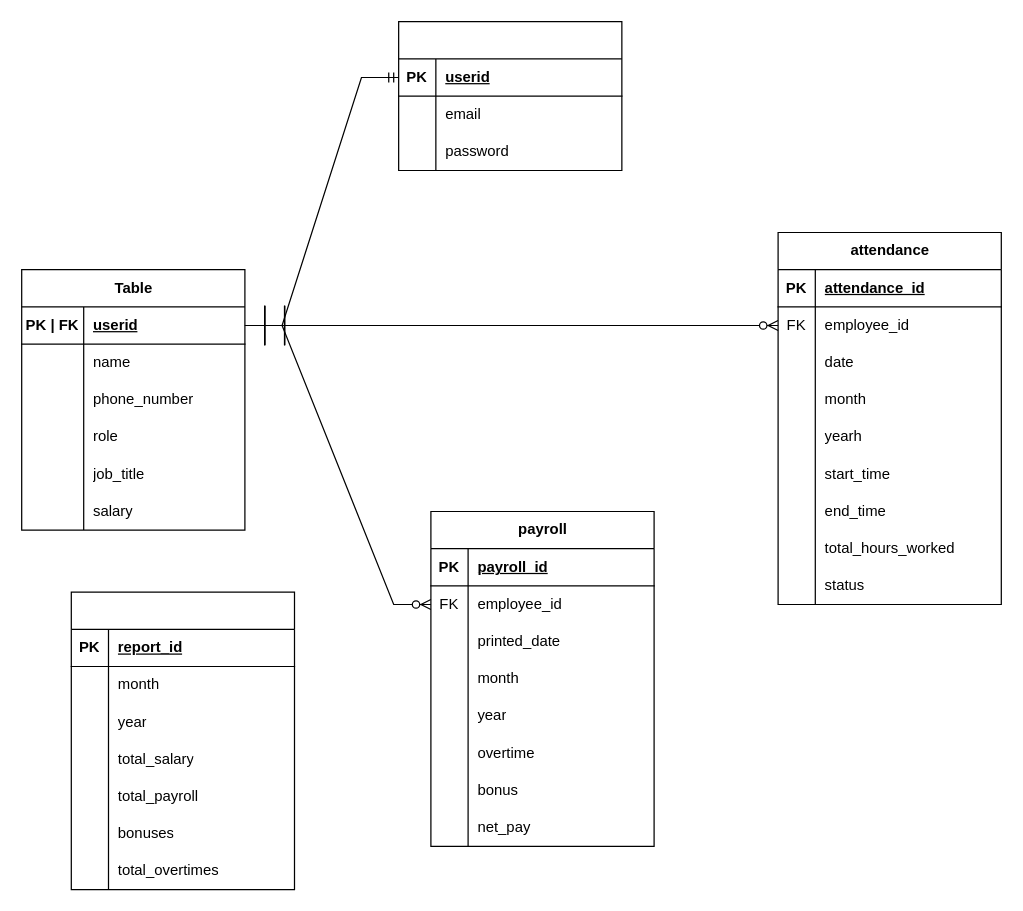
The diagram is 1023 pixels wide and 911 high, and some of its shapes have lost their labels. Here are the shapes that lost their labels. From the top down, the box of each, then its label:
(397, 20, 622, 170): users_login
(70, 591, 294, 890): monthly_salary_report
